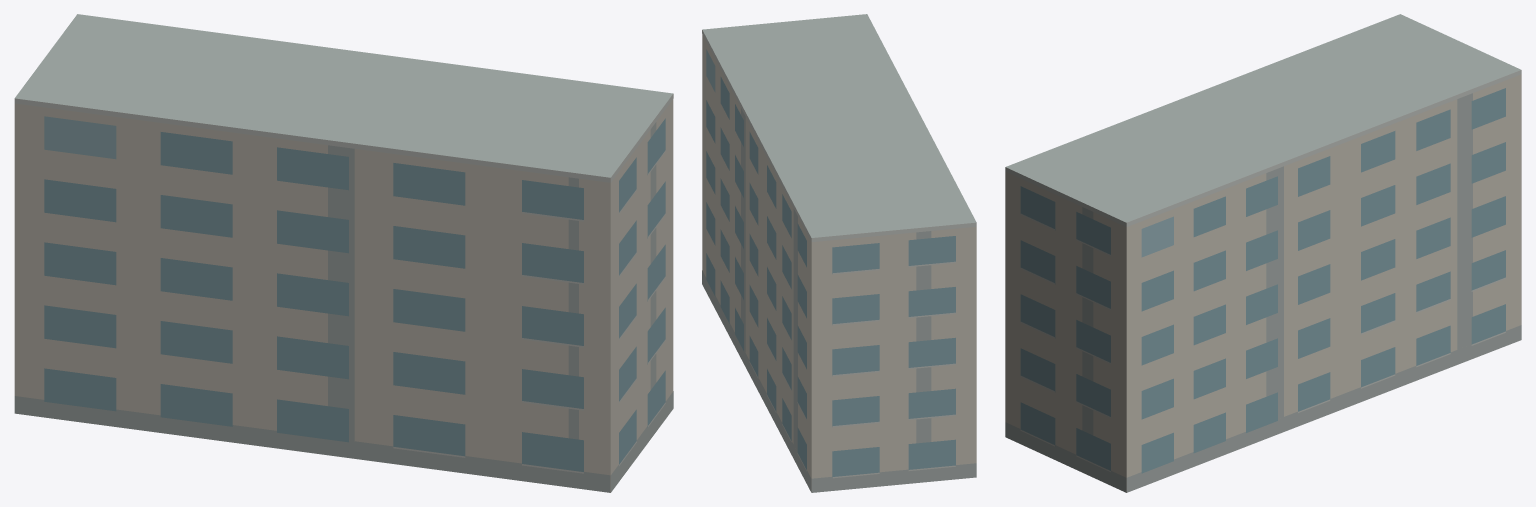
The model's file is residential-4d24102b-d604-46a1-b103-434e826f2482.glb.
The picture shows the model from 3 angles, left to right: view 1: azimuth 30°, elevation 25°; view 2: azimuth 150°, elevation 25°; view 3: azimuth 270°, elevation 25°; orthographic projection. The views are drawn at different scales.
Parts seen in each view (by area): view 1: residential-4d24102b-d604-46a1-b103-434e826f2482.tmp; view 2: residential-4d24102b-d604-46a1-b103-434e826f2482.tmp; view 3: residential-4d24102b-d604-46a1-b103-434e826f2482.tmp.
Boxes of the visible parts, box(x1,y1,x2,y2) form: residential-4d24102b-d604-46a1-b103-434e826f2482.tmp: box(14, 14, 673, 492); residential-4d24102b-d604-46a1-b103-434e826f2482.tmp: box(702, 14, 976, 492); residential-4d24102b-d604-46a1-b103-434e826f2482.tmp: box(1005, 14, 1521, 492).
Size of the model in its own units: 24.87 by 15 by 25.99.
